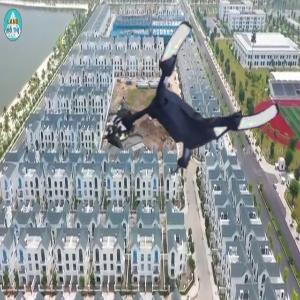drone: (128, 39, 273, 184)
